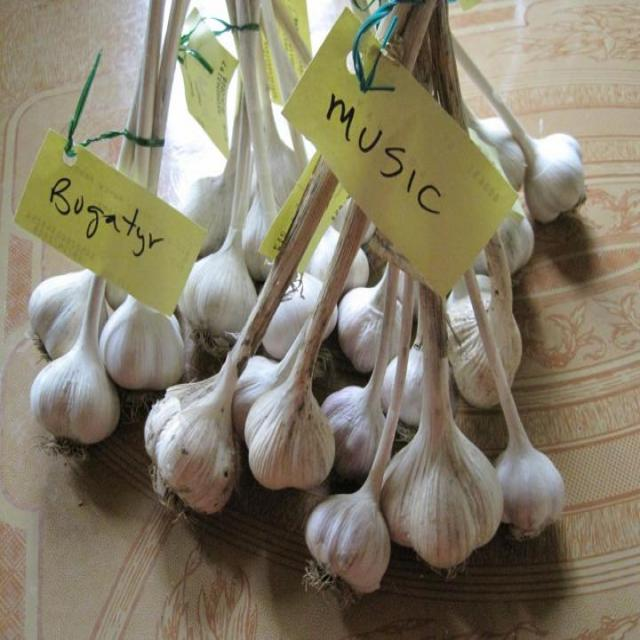garlic: (392, 423, 503, 570), (145, 382, 241, 515), (247, 381, 336, 492), (302, 488, 390, 598), (29, 340, 116, 449), (106, 302, 184, 388), (505, 434, 565, 540), (524, 130, 588, 228)
